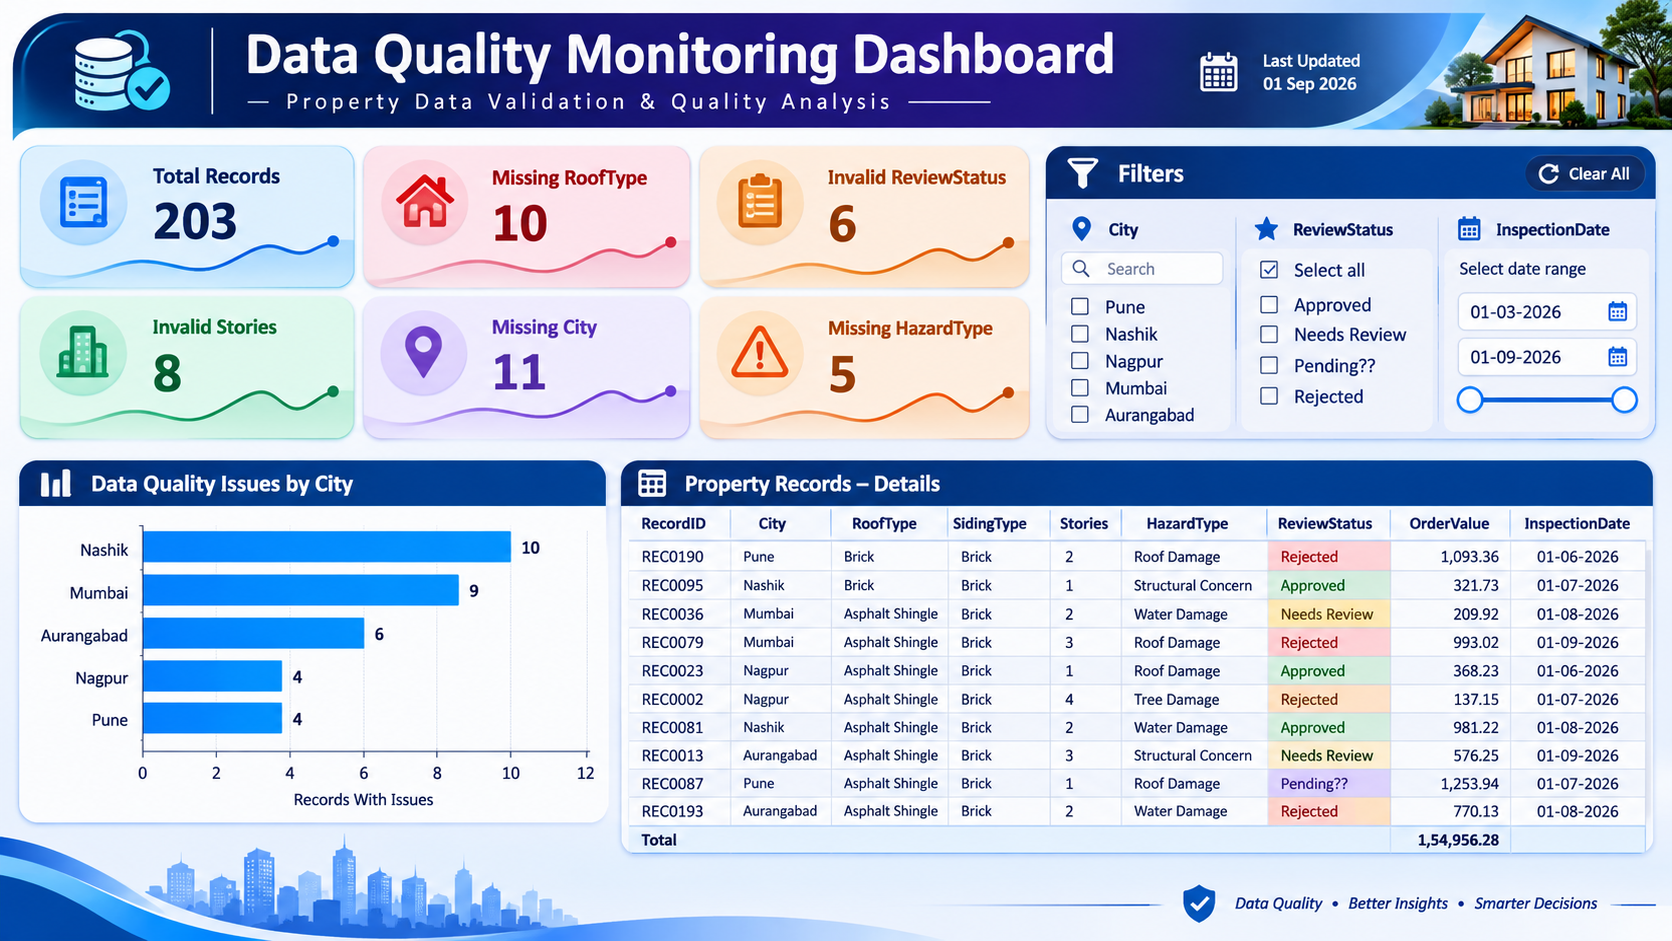

What the dashboard file says about the page in this screenshot:
{"tool":"powerbi","page":{"name":"Page 2","canvas":[1280,720],"ordinal":0},"visuals":[{"type":"image","box":[0,0,1280,122.9],"z":0},{"type":"cardVisual","fields":{"Data":["Data_Quality_Sample.Total Records"]},"box":[7.3,122.7,240.9,129.1],"z":1000},{"type":"lineChart","fields":{"Category":["Data_Quality_Sample.InspectionDate"],"Y":["Data_Quality_Sample.Total Records"]},"box":[109.1,176.4,146.4,104.5],"z":2000},{"type":"cardVisual","fields":{"Data":["Data_Quality_Sample.Missing RoofType"]},"box":[248.2,122.7,240.9,129.1],"z":3000},{"type":"cardVisual","fields":{"Data":["Data_Quality_Sample.Invalid ReviewStatus"]},"box":[489.1,122.7,240.9,129.1],"z":4000},{"type":"cardVisual","fields":{"Data":["Data_Quality_Sample.Invalid Stories"]},"box":[8.2,251.8,240.9,129.1],"z":5000},{"type":"cardVisual","fields":{"Data":["Data_Quality_Sample.Missing City"]},"box":[248.2,251.8,240.9,129.1],"z":6000},{"type":"cardVisual","fields":{"Data":["Data_Quality_Sample.Missing HazardType"]},"box":[490,251.8,240.9,129.1],"z":7000},{"type":"lineChart","fields":{"Category":["Data_Quality_Sample.InspectionDate"],"Y":["Data_Quality_Sample.Missing RoofType"]},"box":[341.4,174.3,147.1,105.7],"z":8000},{"type":"lineChart","fields":{"Category":["Data_Quality_Sample.InspectionDate"],"Y":["Data_Quality_Sample.Invalid ReviewStatus"]},"box":[584.3,164.3,147.1,105.7],"z":9000},{"type":"lineChart","fields":{"Category":["Data_Quality_Sample.InspectionDate"],"Y":["Data_Quality_Sample.Invalid Stories"]},"box":[110,297.1,138.6,105.7],"z":10000},{"type":"lineChart","fields":{"Category":["Data_Quality_Sample.InspectionDate"],"Y":["Data_Quality_Sample.Missing City"]},"box":[342.9,297.1,147.1,105.7],"z":11000},{"type":"lineChart","fields":{"Category":["Data_Quality_Sample.InspectionDate"],"Y":["Data_Quality_Sample.Missing HazardType"]},"box":[582.9,297.1,160,105.7],"z":12000},{"type":"shape","box":[731.4,130,537.1,250],"z":13000},{"type":"actionButton","box":[1137.3,140,123.6,34.5],"z":14000},{"type":"textbox","box":[742.9,130,150,44.3],"z":15000},{"type":"slicer","fields":{"Values":["Data_Quality_Sample.City"]},"box":[757.1,181.4,150,175.7],"z":16000},{"type":"slicer","fields":{"Values":["Data_Quality_Sample.ReviewStatus"]},"box":[924.3,181.4,150,175.7],"z":17000},{"type":"slicer","fields":{"Values":["Data_Quality_Sample.InspectionDate"]},"box":[1088.6,187.1,150,175.7],"z":18000},{"type":"clusteredBarChart","title":"Data Quality Issues by City","fields":{"Y":["Data_Quality_Sample.Records With Issues"],"Category":["Data_Quality_Sample.City"]},"box":[10,392.9,468.6,311.4],"z":18001},{"type":"tableEx","fields":{"Values":["Data_Quality_Sample.SidingType","Data_Quality_Sample.RoofType","Data_Quality_Sample.ReviewerID","Data_Quality_Sample.RecordID","Data_Quality_Sample.City","Data_Quality_Sample.HazardType","Data_Quality_Sample.ReviewStatus","Sum(Data_Quality_Sample.OrderValue)"]},"box":[488.6,392.9,791.4,327.1],"z":18002}]}

Visuals, with their boxes in screenshot pixels (x1, y1, x2, y2), scaled from the page's 1280x720 canvas onto the 1672x941 screenshot:
image: BBox(0, 0, 1671, 161)
cardVisual - Data_Quality_Sample.Total Records: BBox(10, 160, 324, 329)
lineChart - Data_Quality_Sample.InspectionDate x Data_Quality_Sample.Total Records: BBox(143, 231, 334, 367)
cardVisual - Data_Quality_Sample.Missing RoofType: BBox(324, 160, 639, 329)
cardVisual - Data_Quality_Sample.Invalid ReviewStatus: BBox(639, 160, 954, 329)
cardVisual - Data_Quality_Sample.Invalid Stories: BBox(11, 329, 325, 498)
cardVisual - Data_Quality_Sample.Missing City: BBox(324, 329, 639, 498)
cardVisual - Data_Quality_Sample.Missing HazardType: BBox(640, 329, 955, 498)
lineChart - Data_Quality_Sample.InspectionDate x Data_Quality_Sample.Missing RoofType: BBox(446, 228, 638, 366)
lineChart - Data_Quality_Sample.InspectionDate x Data_Quality_Sample.Invalid ReviewStatus: BBox(763, 215, 955, 353)
lineChart - Data_Quality_Sample.InspectionDate x Data_Quality_Sample.Invalid Stories: BBox(144, 388, 325, 526)
lineChart - Data_Quality_Sample.InspectionDate x Data_Quality_Sample.Missing City: BBox(448, 388, 640, 526)
lineChart - Data_Quality_Sample.InspectionDate x Data_Quality_Sample.Missing HazardType: BBox(761, 388, 970, 526)
shape: BBox(955, 170, 1657, 497)
actionButton: BBox(1486, 183, 1647, 228)
textbox: BBox(970, 170, 1166, 228)
slicer - Data_Quality_Sample.City: BBox(989, 237, 1185, 467)
slicer - Data_Quality_Sample.ReviewStatus: BBox(1207, 237, 1403, 467)
slicer - Data_Quality_Sample.InspectionDate: BBox(1422, 245, 1618, 474)
"Data Quality Issues by City" clusteredBarChart: BBox(13, 513, 625, 920)
tableEx - Data_Quality_Sample.SidingType x Data_Quality_Sample.RoofType: BBox(638, 513, 1671, 940)
